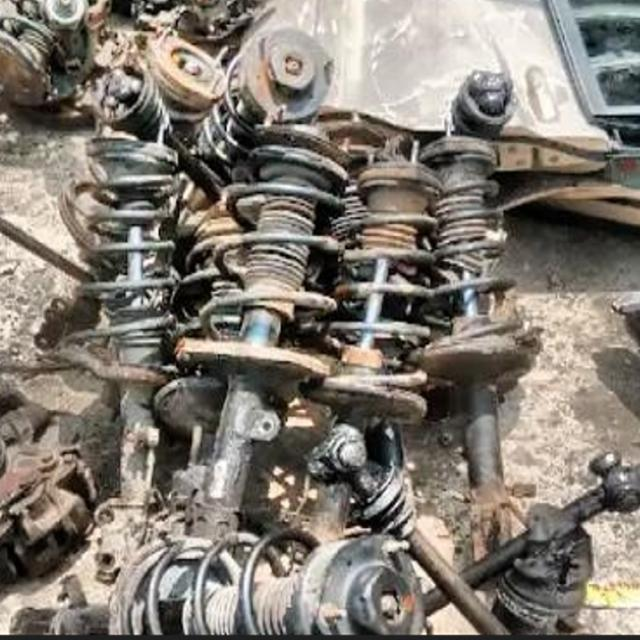shock absorber: (167, 121, 352, 539), (409, 117, 542, 488), (11, 528, 425, 639), (59, 118, 179, 491), (299, 141, 442, 431)
